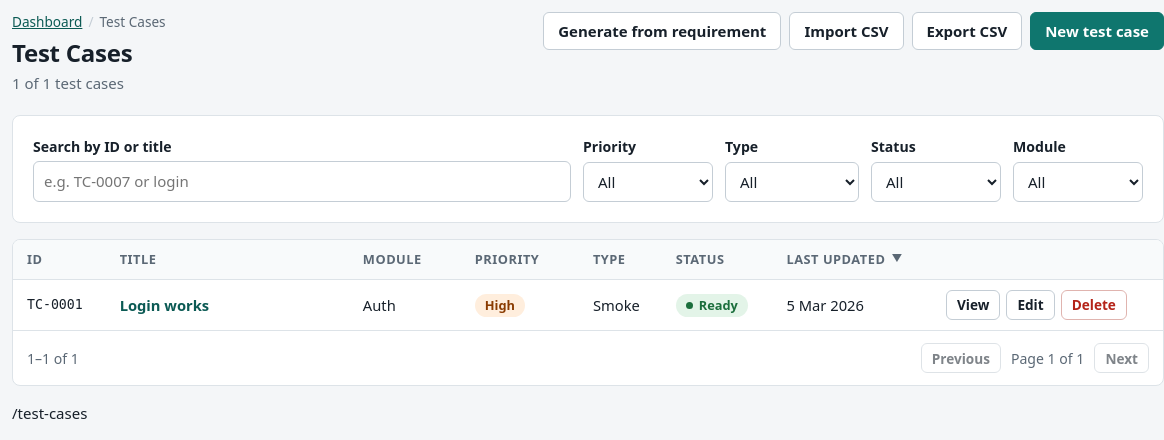
Test: TestCaseListPage › debounces search and sends it with the other params
Check: the link "Login works" is shown, box [120,295,209,315]
Type "login" into the search field labelled "Search by ID or title" at (302, 181), box [33,161,571,202]
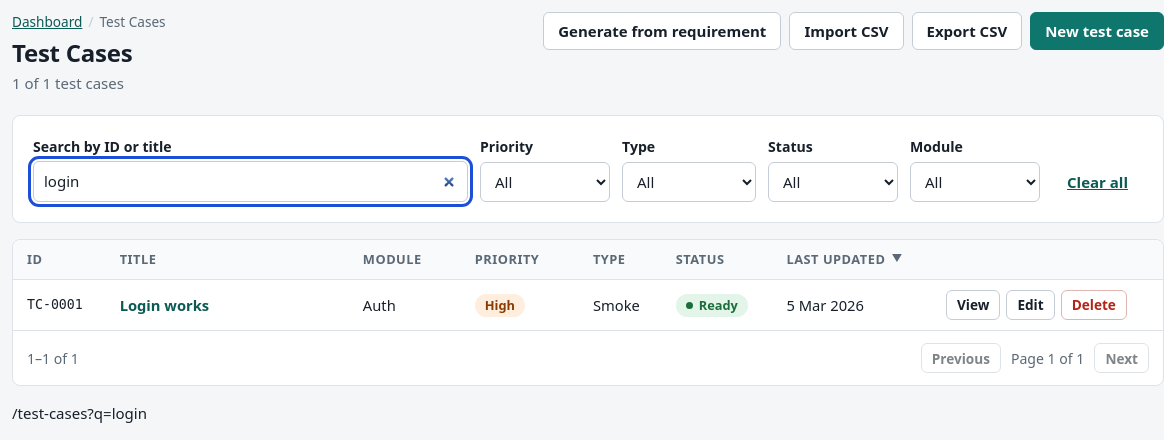
Check: the text with test id "location" shows "q=login", box [12,403,147,423]
